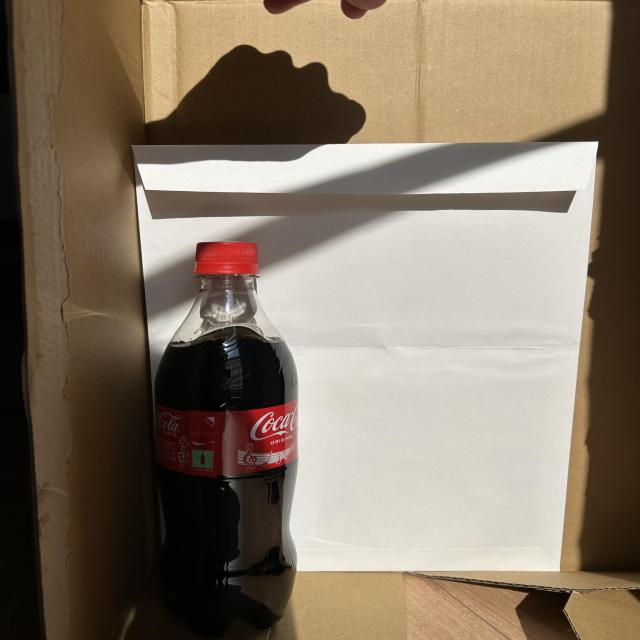high: (155, 241, 299, 637)
